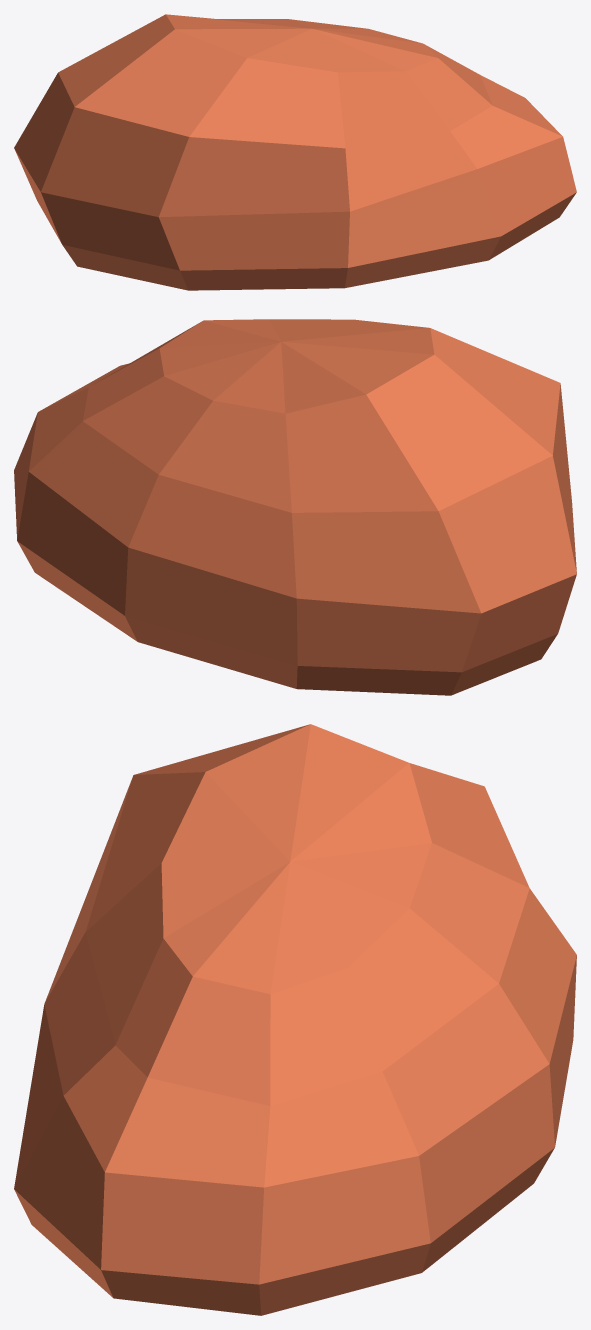
File: Rock_V01.fbx
3 renders of one model, top to bottom at view 1: azimuth 30°, elevation 25°; view 2: azimuth 150°, elevation 25°; view 3: azimuth 270°, elevation 25°, orthographic. The views are drawn at different scales.
Parts seen in each view (by area): view 1: Rock Big; view 2: Rock Big; view 3: Rock Big.
Part boxes in pixels (x1,y1,x2,y2): Rock Big: (14,14,576,290); Rock Big: (14,319,576,695); Rock Big: (14,724,576,1315).
Size of the model in its own units: 124 by 55.94 by 82.09.
